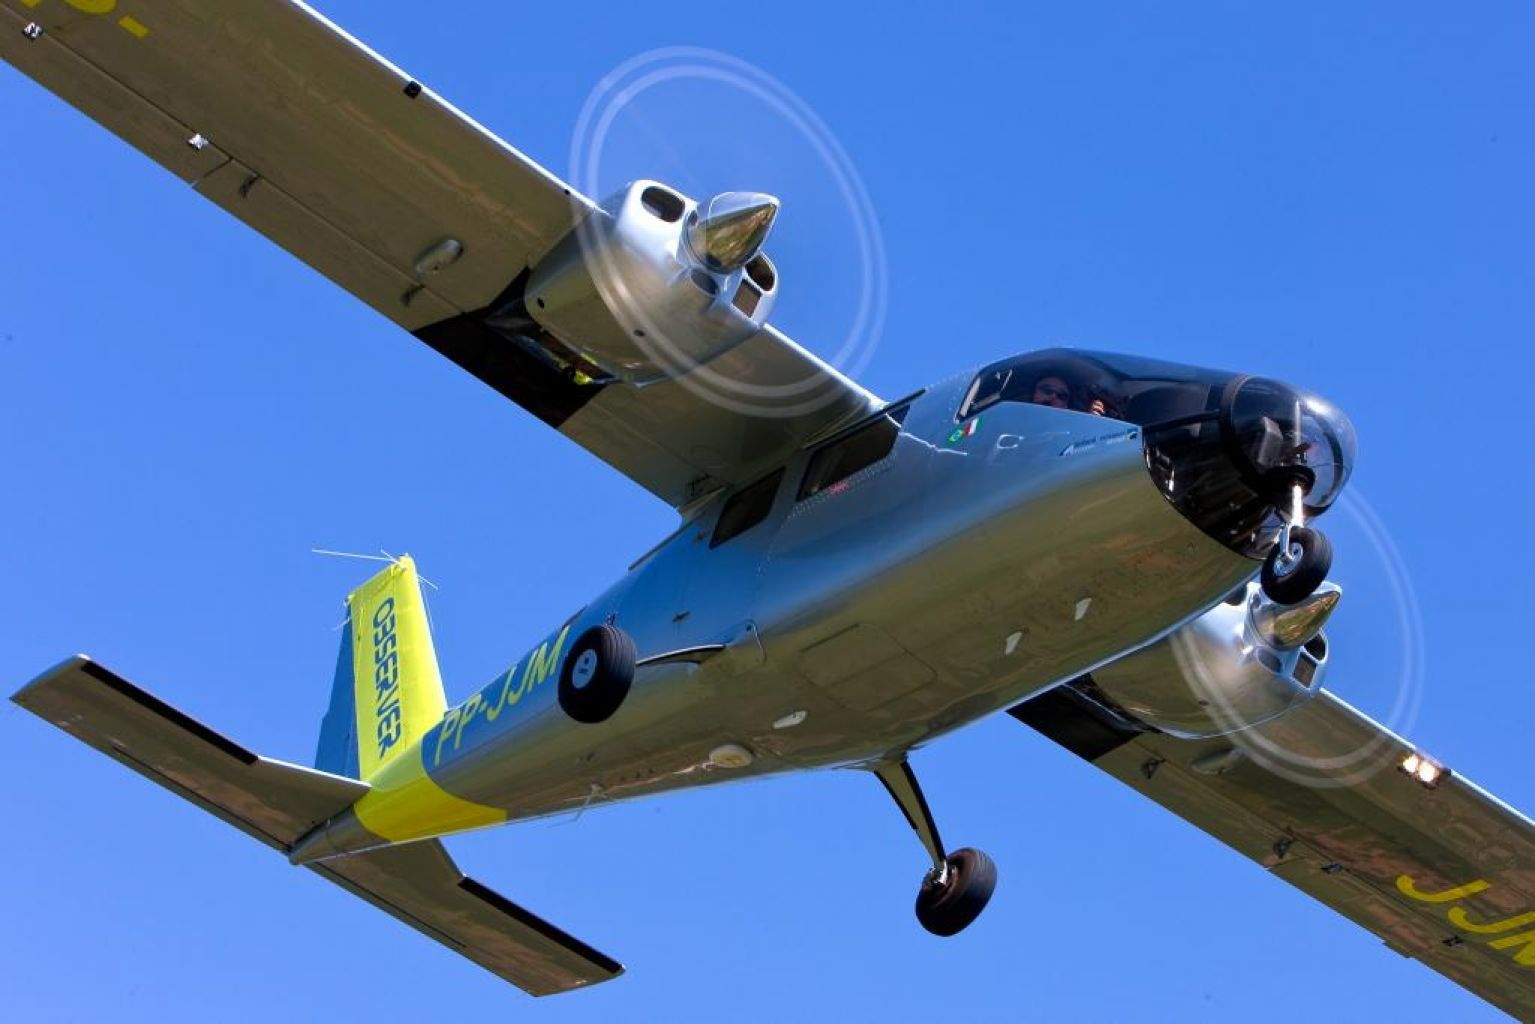Aeronef_de_loisir: (1, 1, 1532, 1021)
